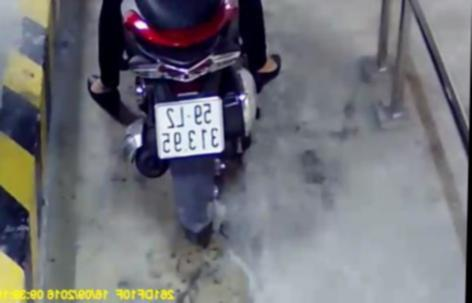License_Plate: (149, 93, 239, 166)
